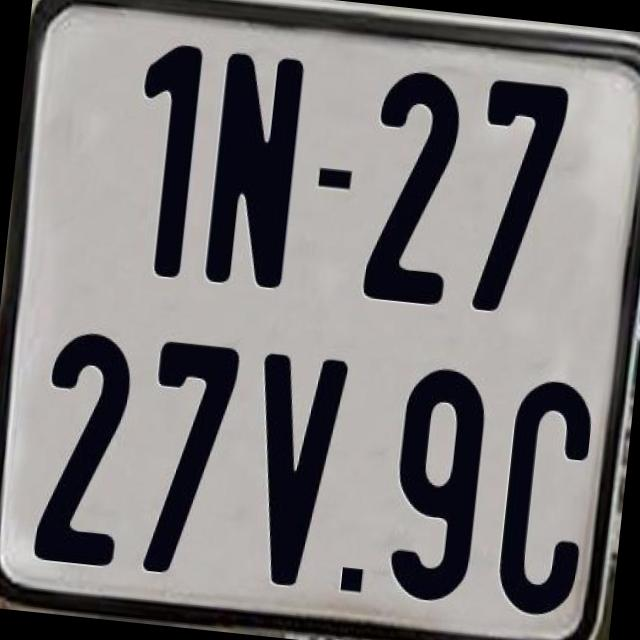1: (123, 42, 210, 278)
2: (30, 324, 136, 566), (361, 66, 468, 304)
7: (462, 75, 569, 314), (136, 336, 240, 574)
9: (386, 360, 498, 603)
C: (490, 378, 598, 628)
N: (201, 48, 305, 294)
V: (238, 352, 354, 592)
